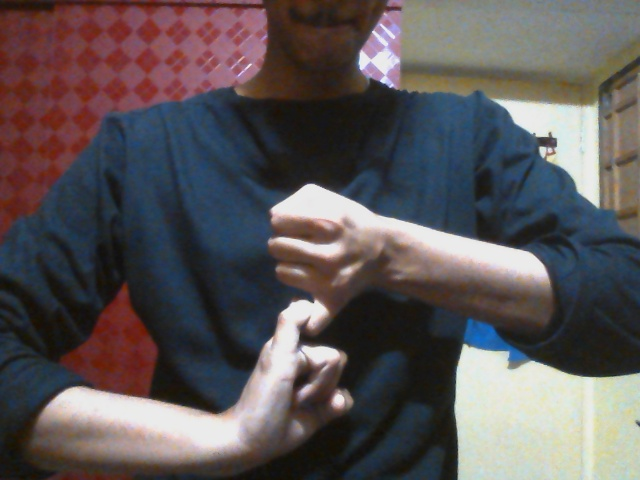S: (243, 184, 394, 444)
